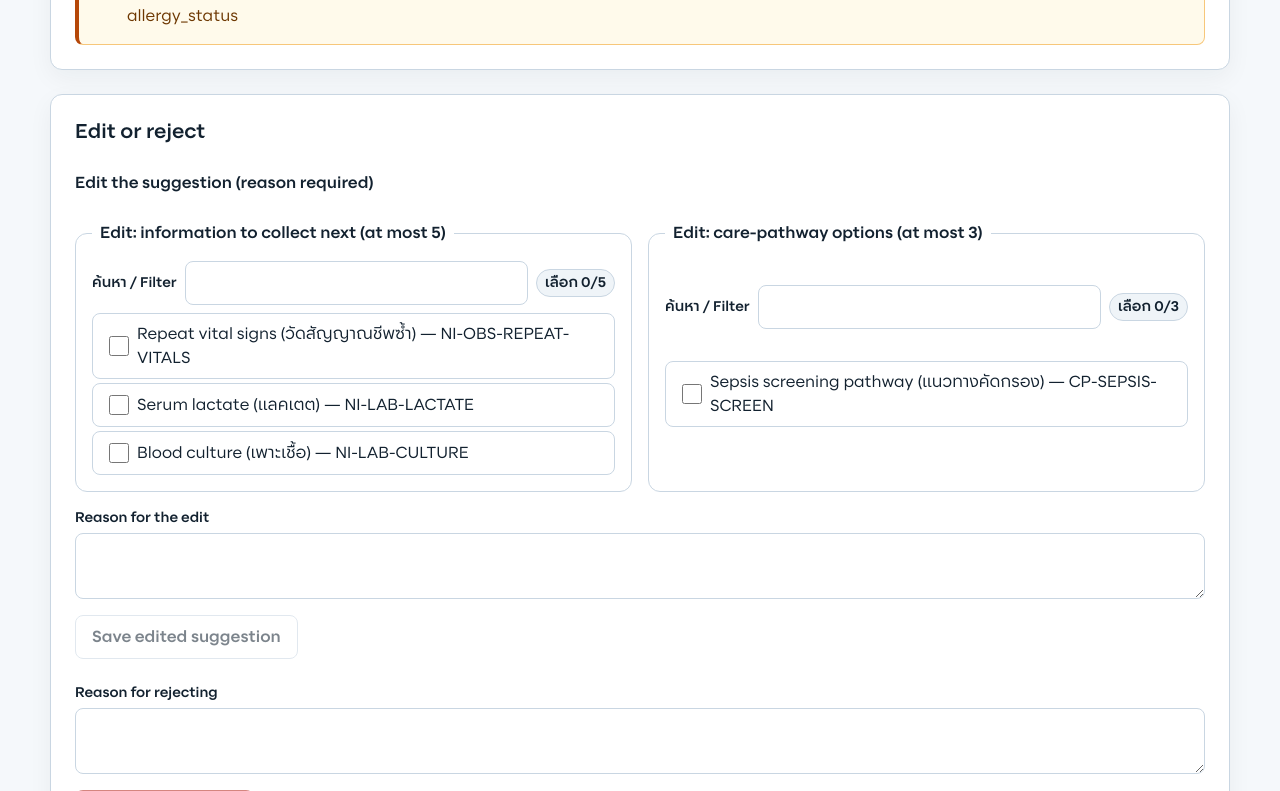
Test: CareReview › filters the edit picker: matches show, non-matching unselected rows hide, selected rows stay
(page scrolled)
Click the checkbox labelled "Repeat vital signs (วัดสัญญาณชีพซ้ำ) — NI-OBS-REPEAT-VITALS": point(119, 346) [109,336,129,356]
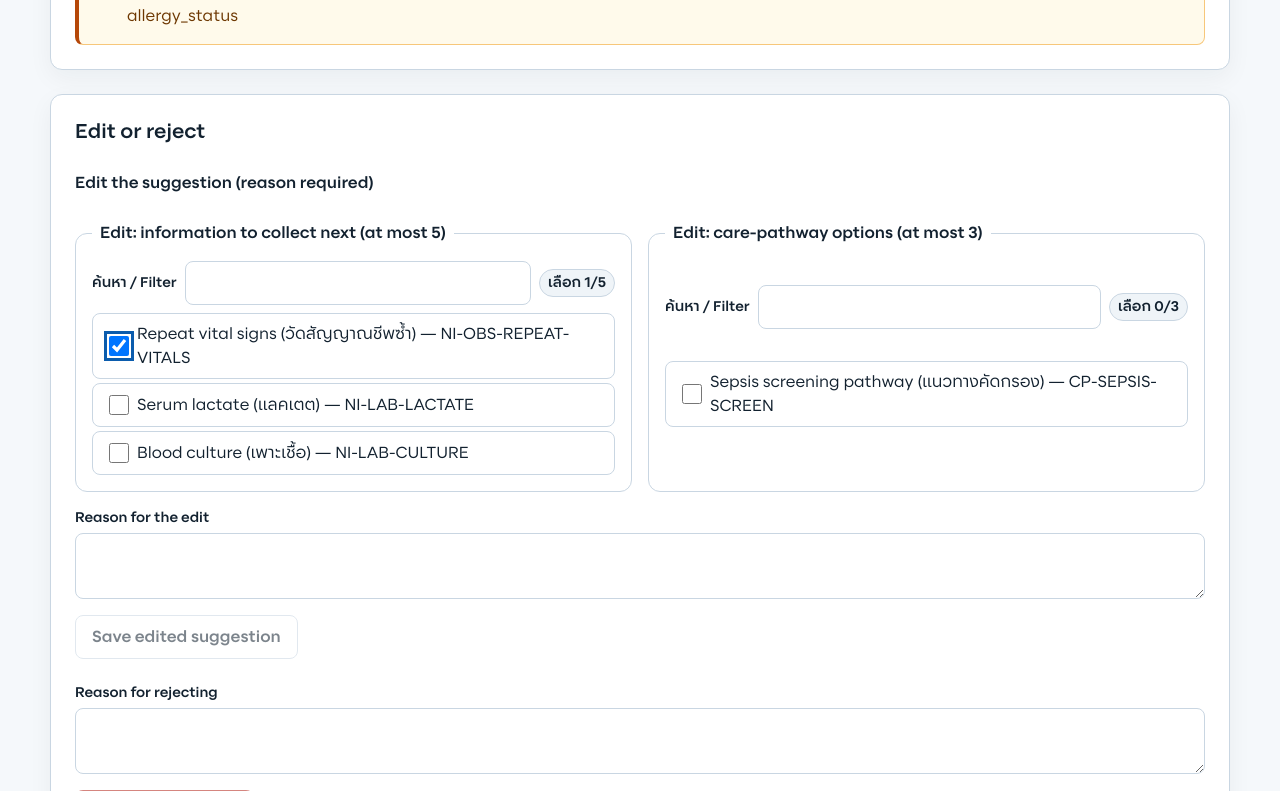
In the search field with id "edit-ni-filter": point(358, 283) [185,261,531,305], type "lactate"
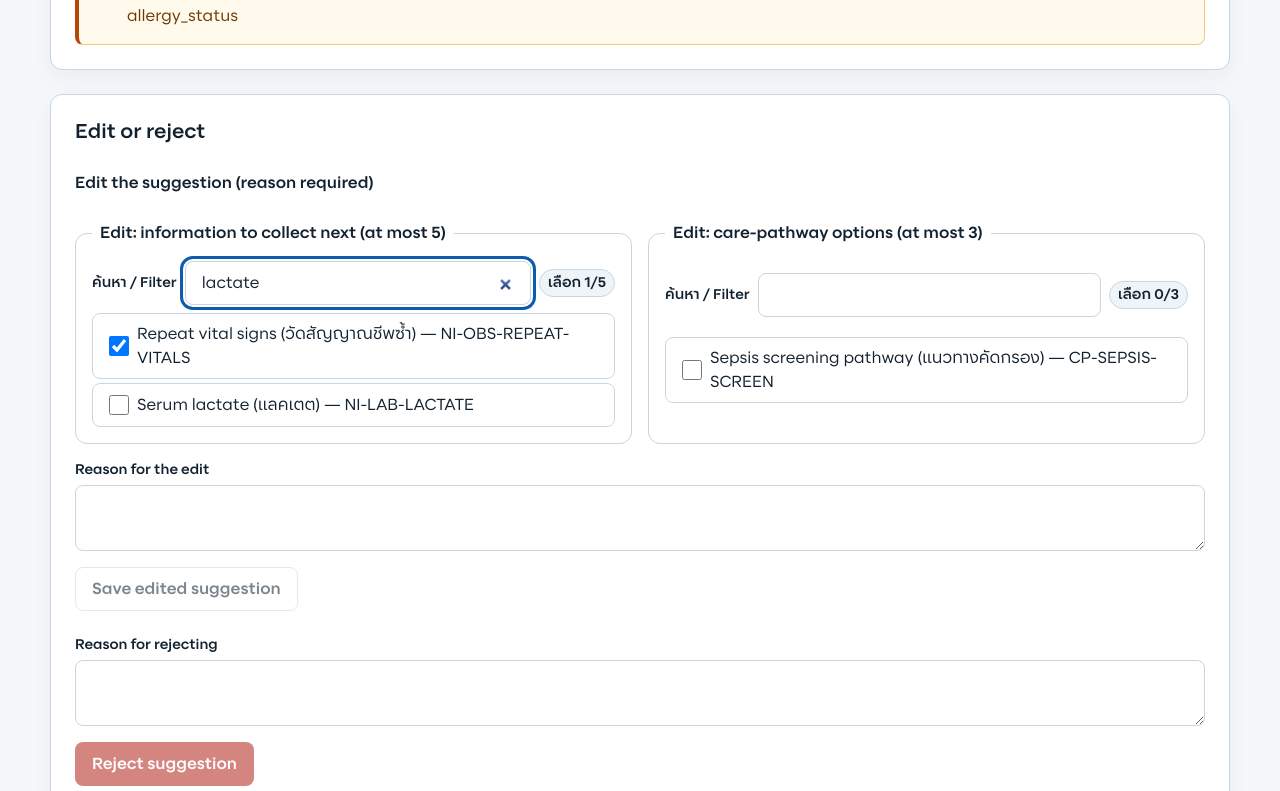
Expected: the label labelled "Serum lactate (แลคเตต) — NI-LAB-LACTATE" is shown, [92,383,615,427]
Now the text "เลือก 1/5" is shown, box [539,269,615,298]
Now the field labelled "Blood culture" is gone
